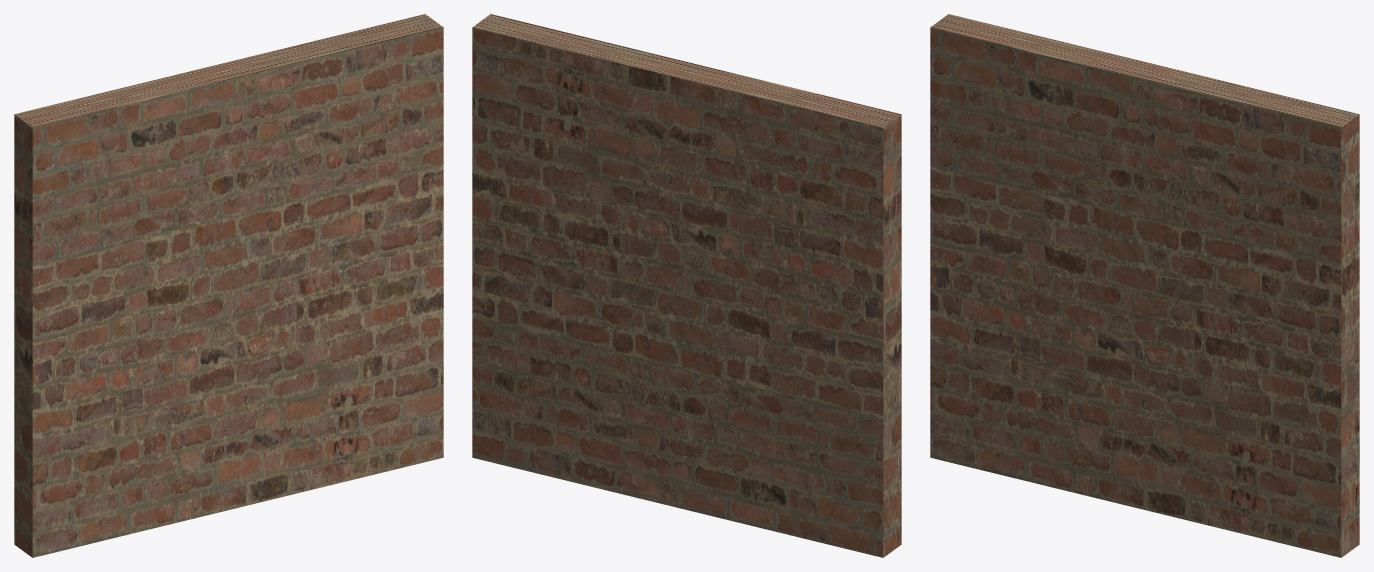
The model's file is WallBicks_004.glb.
3 renders of one model, left to right at view 1: azimuth 30°, elevation 25°; view 2: azimuth 150°, elevation 25°; view 3: azimuth 330°, elevation 25°, orthographic.
Visible parts, largest first — view 1: WallBicks.004; view 2: WallBicks.004; view 3: WallBicks.004.
Boxes of the visible parts, left/top/right/bottom form: WallBicks.004: left=14, top=14, right=443, bottom=557; WallBicks.004: left=472, top=14, right=901, bottom=557; WallBicks.004: left=930, top=14, right=1359, bottom=557.
Bounding box in the file's own units: 4.01 × 4.01 × 0.3115.
1 material, 1 textured.
